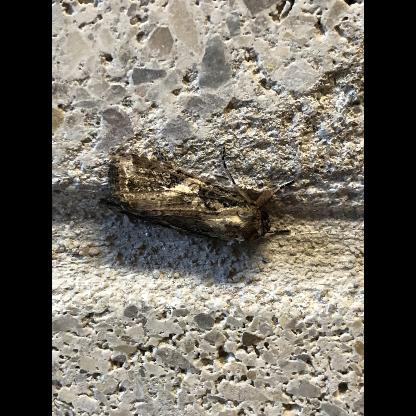Fall Armyworm Moth: (94, 142, 298, 248)
